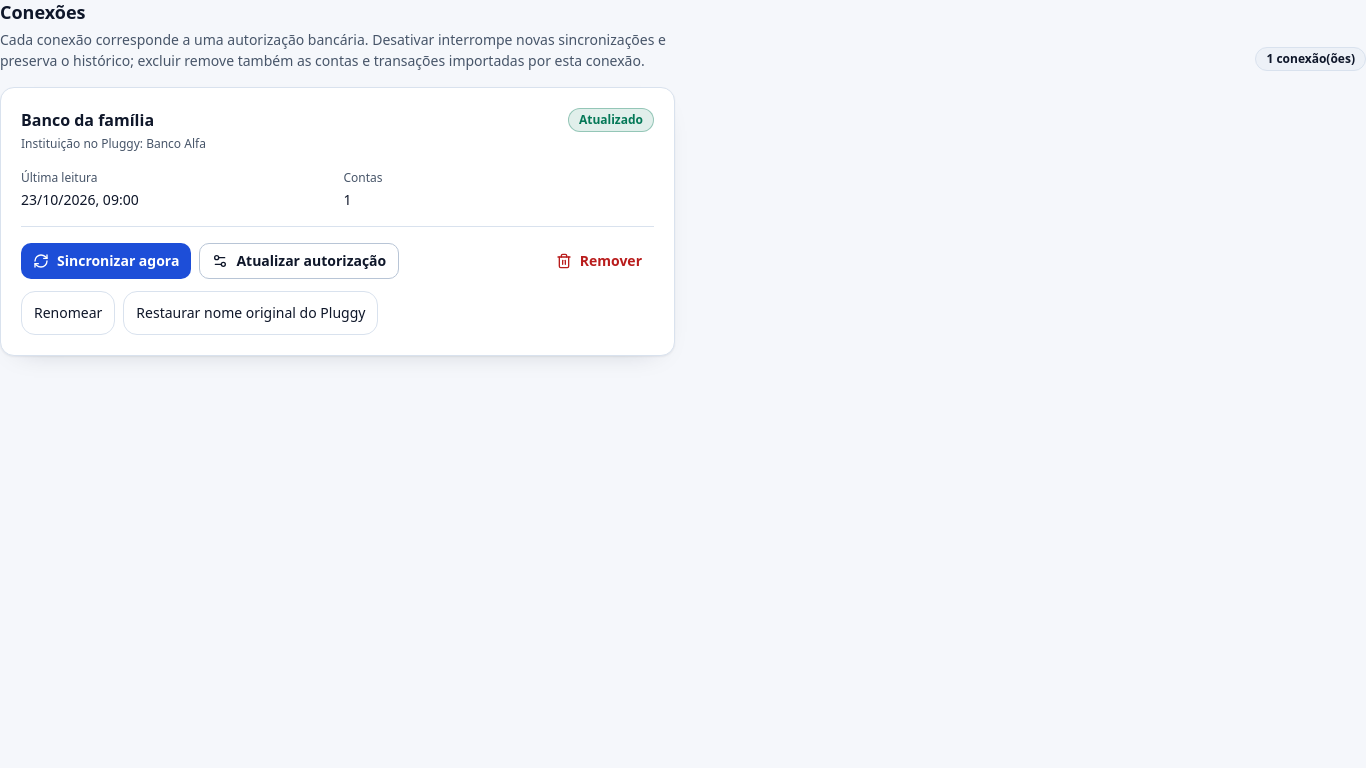
it: remoção de conexão › exclui a conexão e apenas os dados importados por ela
This screenshot has width=1366, height=768.
Click the button "Remover": (599, 261) left=544, top=243, right=654, bottom=279
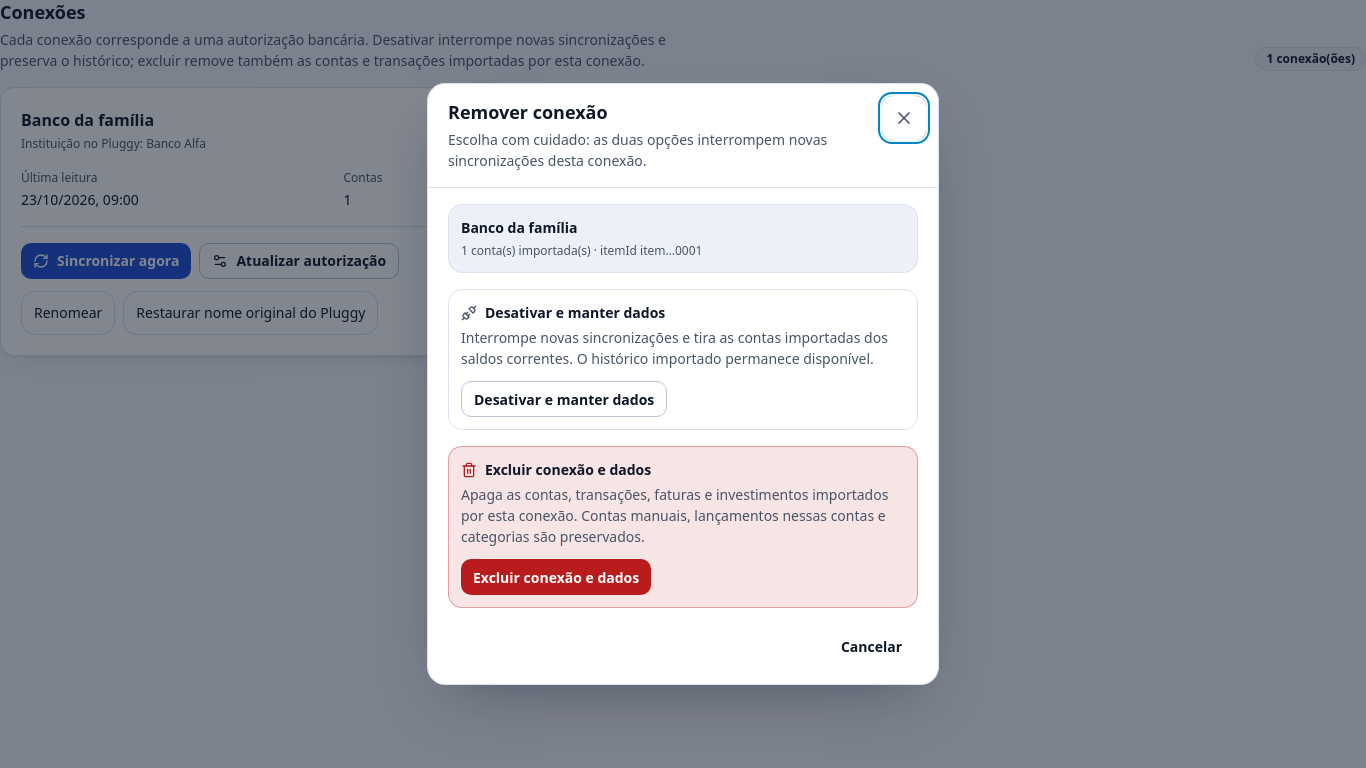
Click the button "Excluir conexão e dados": (556, 577) left=461, top=559, right=651, bottom=595
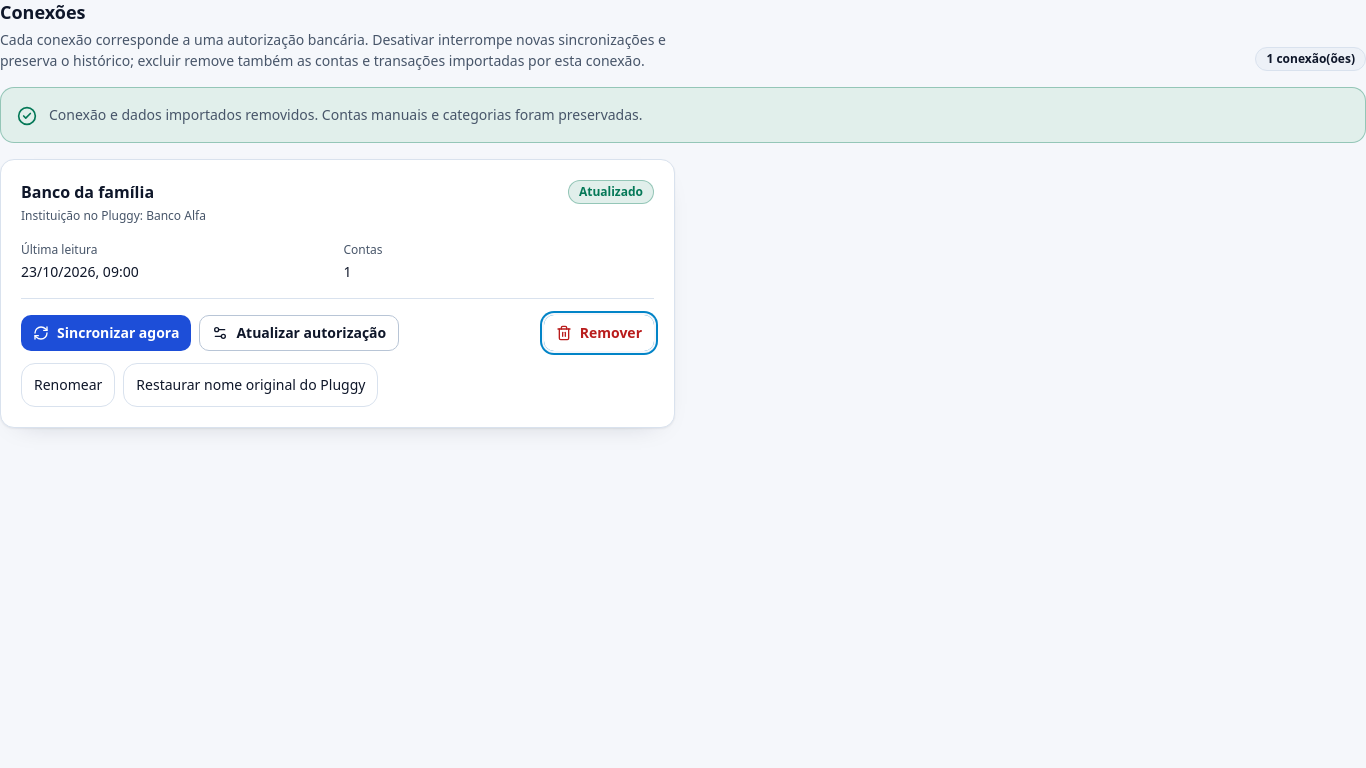
Expected: the text "Conexão e dados importados removidos" is shown, left=49, top=105, right=642, bottom=124
